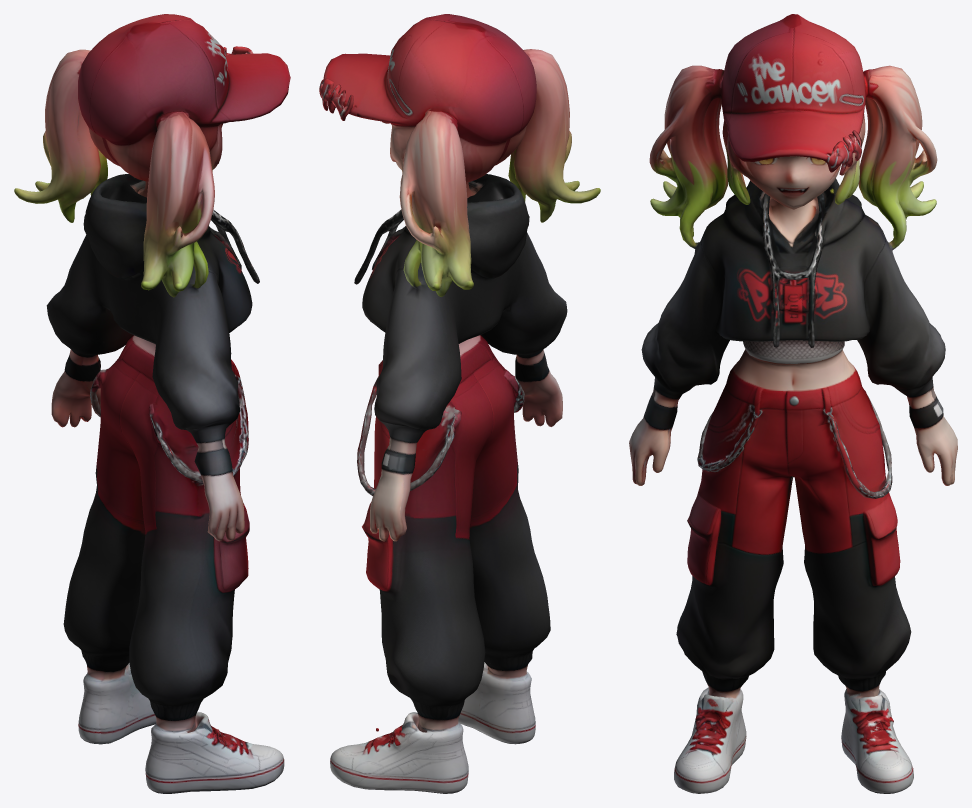
The model's file is 3d角色模型.fbx.
The picture shows the model from 3 angles, left to right: view 1: azimuth 30°, elevation 25°; view 2: azimuth 150°, elevation 25°; view 3: azimuth 270°, elevation 25°; orthographic projection.
Parts seen in each view (by area): view 1: tripo_node_73bffd07; view 2: tripo_node_73bffd07; view 3: tripo_node_73bffd07.
Boxes of the visible parts, x1,y1,x2,y2 form: tripo_node_73bffd07: (14, 14, 290, 793); tripo_node_73bffd07: (319, 14, 600, 793); tripo_node_73bffd07: (629, 14, 957, 793).
Bounding box in the file's own units: 0.2889 × 0.998 × 0.4028.
1 material, 1 textured.
